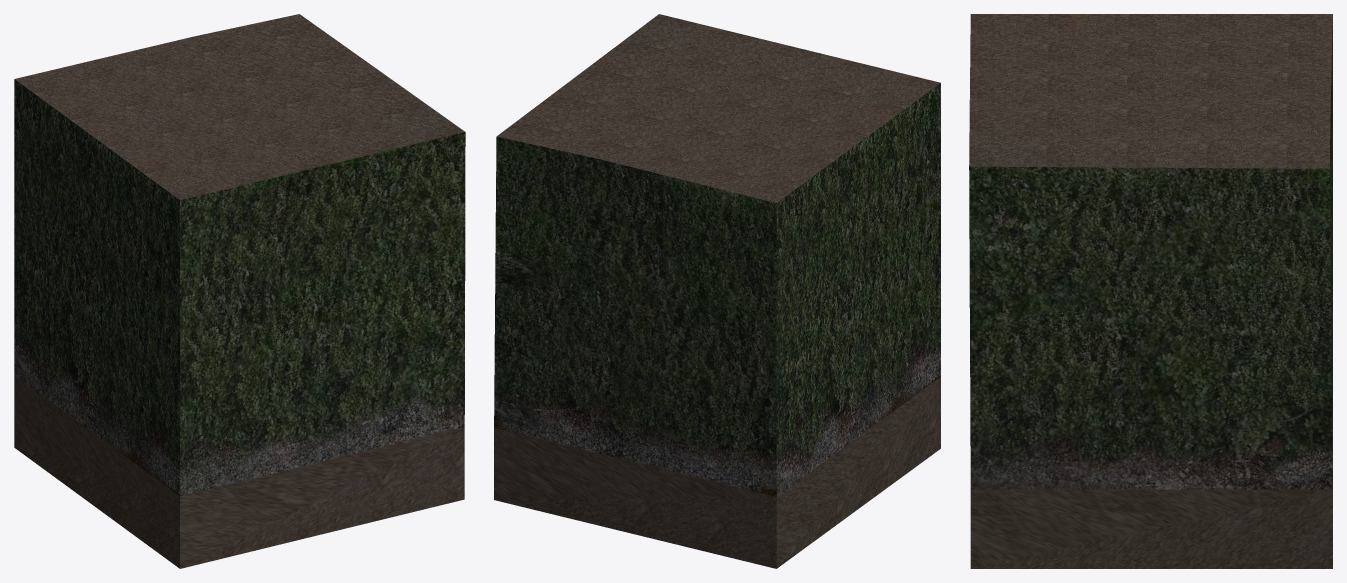
File: HedgeWall.glb
The picture shows the model from 3 angles, left to right: view 1: azimuth 30°, elevation 25°; view 2: azimuth 150°, elevation 25°; view 3: azimuth 270°, elevation 25°; orthographic projection. The views are drawn at different scales.
Visible parts, largest first — view 1: Cube; view 2: Cube; view 3: Cube.
Part boxes in pixels (x1,y1,x2,y2): Cube: (14, 14, 465, 568); Cube: (494, 14, 940, 568); Cube: (969, 14, 1332, 568).
Size of the model in its own units: 2.01 by 2.49 by 2.04.
1 material, 1 textured.
